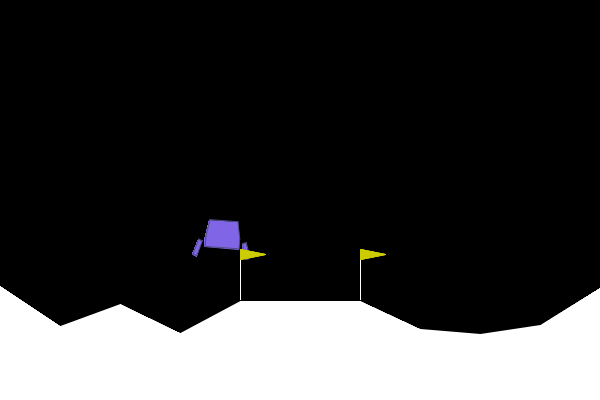lander: (191, 217, 254, 261)
